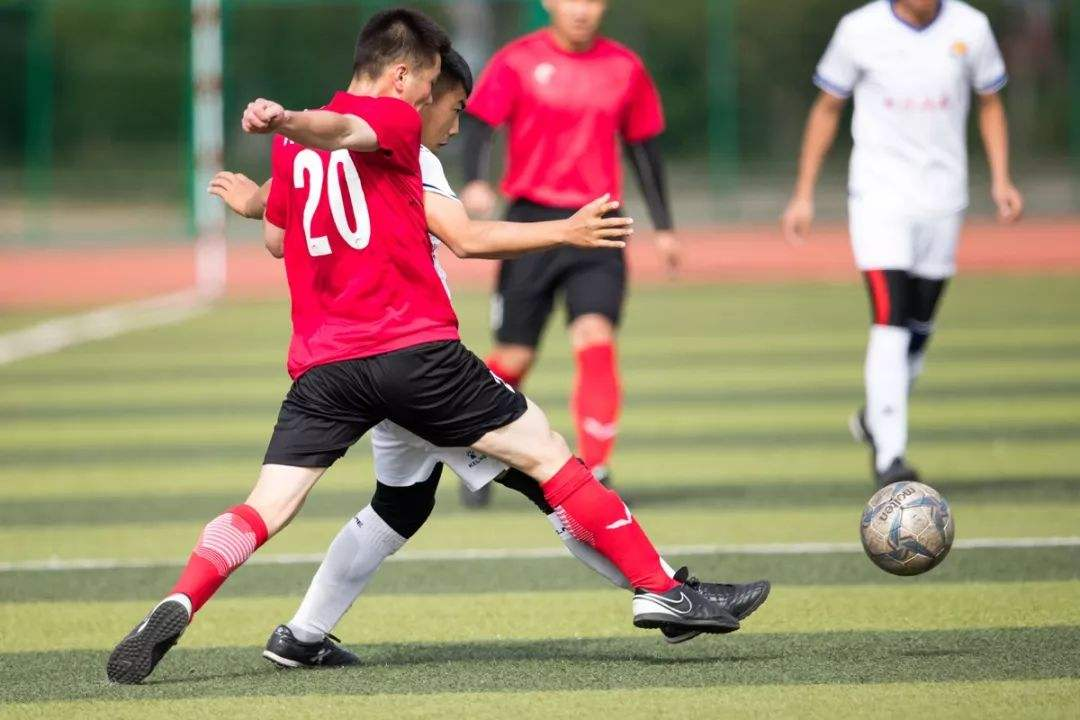football: (859, 481, 959, 578)
